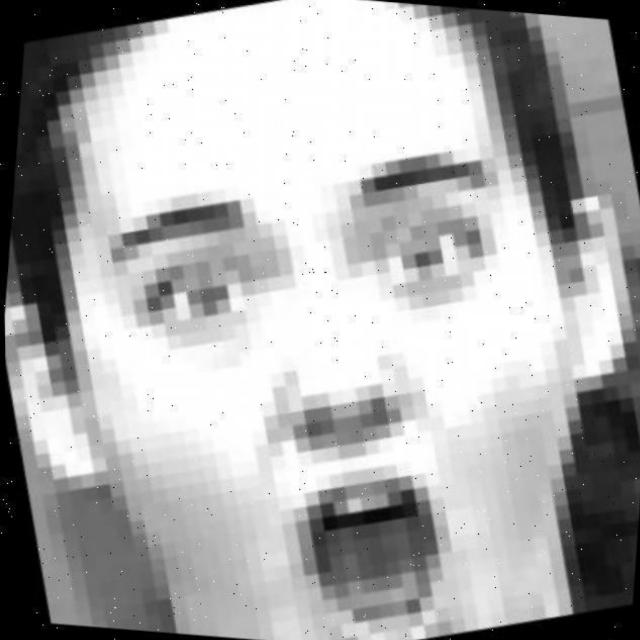Surprised: (30, 81, 639, 640)
